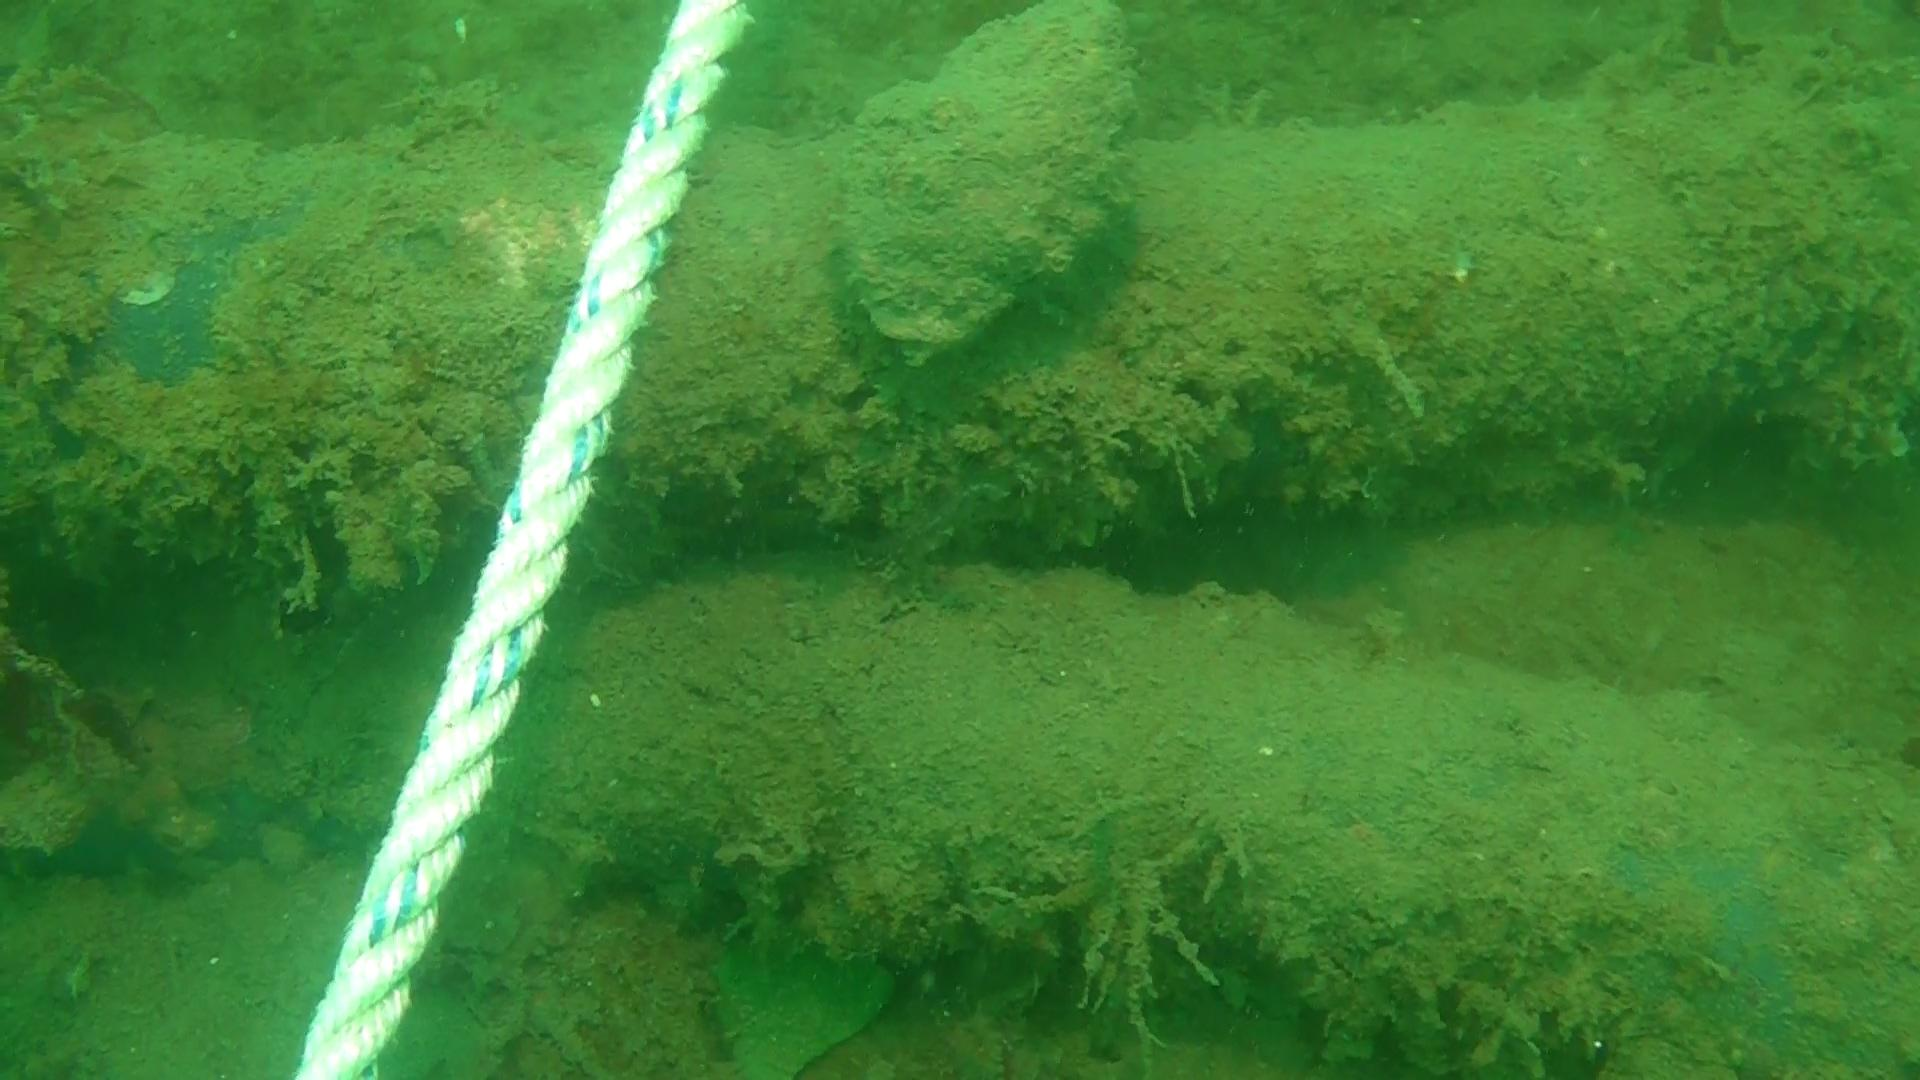rope: (287, 1, 752, 1080)
